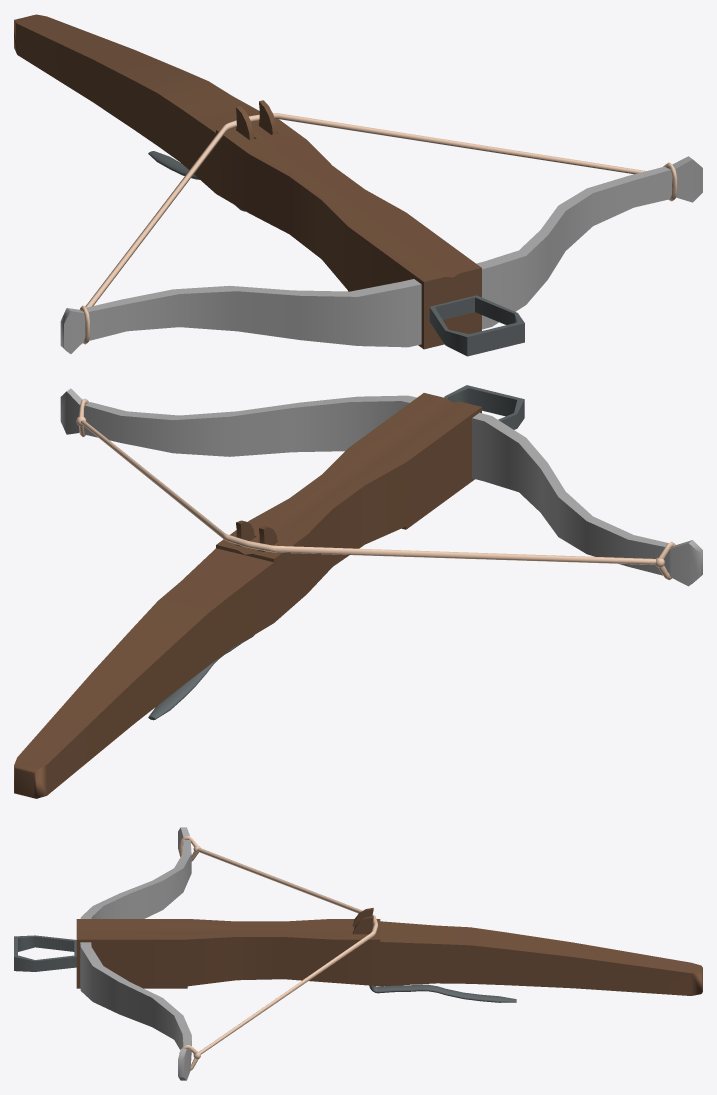
The model's file is Crossbow.fbx.
3 renders of one model, top to bottom at view 1: azimuth 30°, elevation 25°; view 2: azimuth 150°, elevation 25°; view 3: azimuth 270°, elevation 25°, orthographic. The views are drawn at different scales.
Visible parts, largest first — view 1: Crossbow; view 2: Crossbow; view 3: Crossbow.
Boxes of the visible parts, x1,y1,x2,y2 form: Crossbow: (14, 14, 702, 356); Crossbow: (14, 385, 702, 798); Crossbow: (14, 827, 702, 1080).
Size of the model in its own units: 43.52 by 7.97 by 55.65.
1 material, 1 textured.
